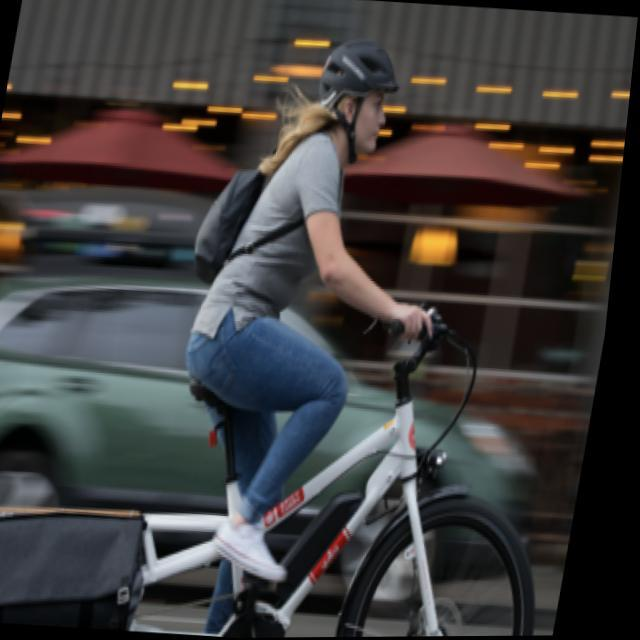Helmet: (310, 27, 402, 161)
